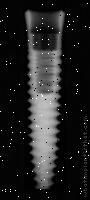OCO Biomedical: (14, 8, 66, 191)
